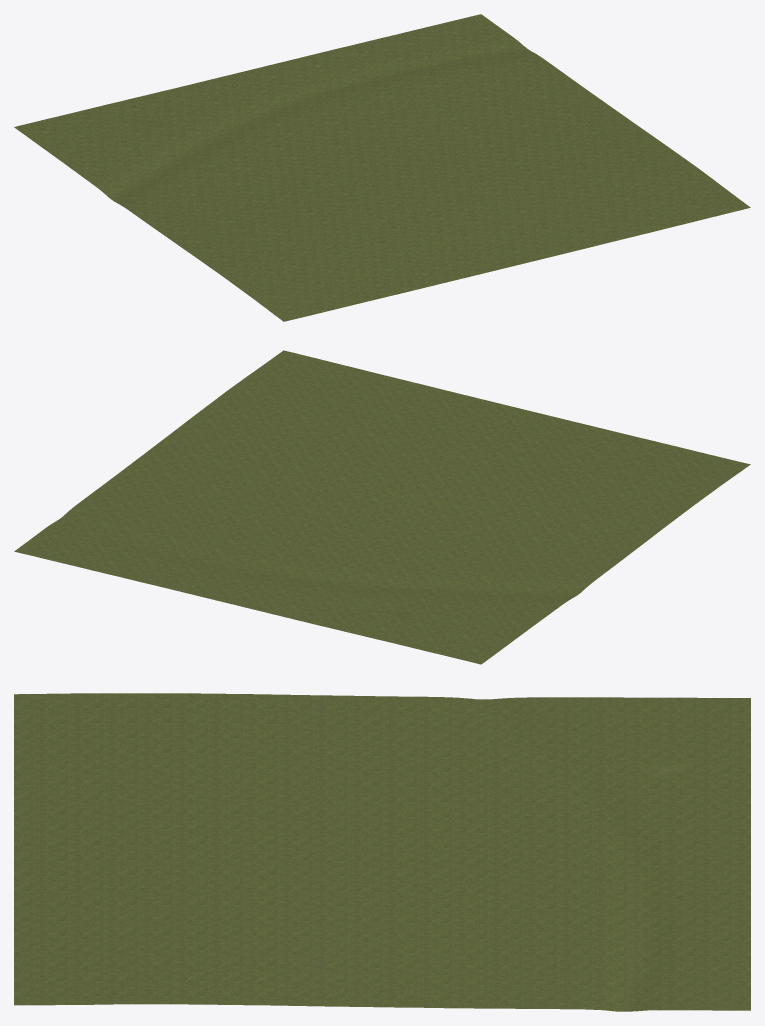
File: baylands_03.DAE
3 views of the same model, one above another, from view 1: azimuth 30°, elevation 25°; view 2: azimuth 150°, elevation 25°; view 3: azimuth 270°, elevation 25° (orthographic). The views are drawn at different scales.
Visible parts, largest first — view 1: Grass; view 2: Grass; view 3: Grass.
Part boxes in pixels (left/top/right/bottom): Grass: left=14, top=14, right=750, bottom=321; Grass: left=14, top=350, right=750, bottom=664; Grass: left=14, top=693, right=750, bottom=1011.
Size of the model in its own units: 100 by 100 by 1.14.
Materials: 1 (1 with a texture image).
